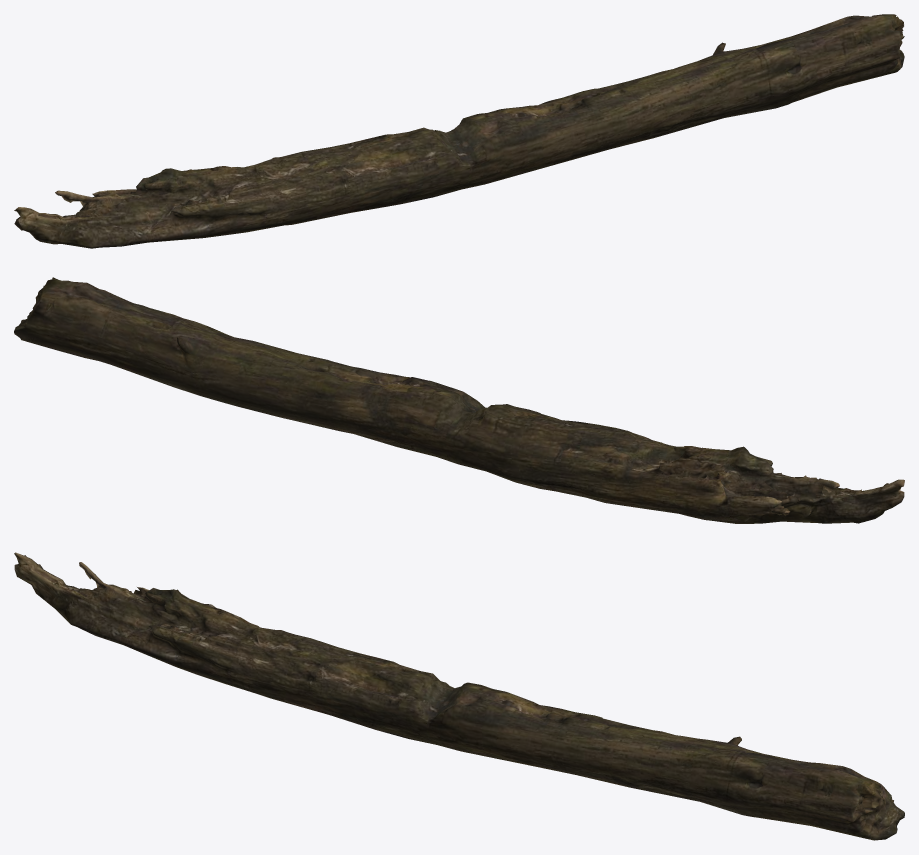
File: dead_tree_trunk.glb
3 views of the same model, one above another, from view 1: azimuth 30°, elevation 25°; view 2: azimuth 150°, elevation 25°; view 3: azimuth 330°, elevation 25° (orthographic).
Parts seen in each view (by area): view 1: dead_tree_trunk; view 2: dead_tree_trunk; view 3: dead_tree_trunk.
Boxes of the visible parts, x1,y1,x2,y2 form: dead_tree_trunk: (14,14,904,248); dead_tree_trunk: (14,277,904,523); dead_tree_trunk: (14,552,904,840).
Bounding box in the file's own units: 3.05 × 0.2904 × 0.2773.
1 material, 1 textured.
